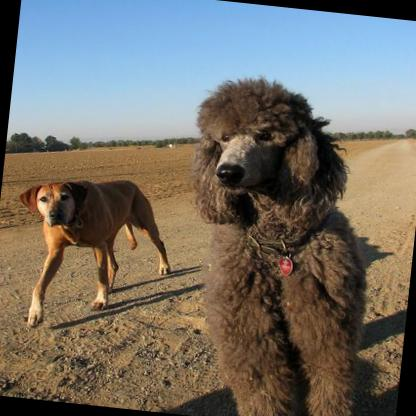standard_poodle: (159, 66, 393, 416)
